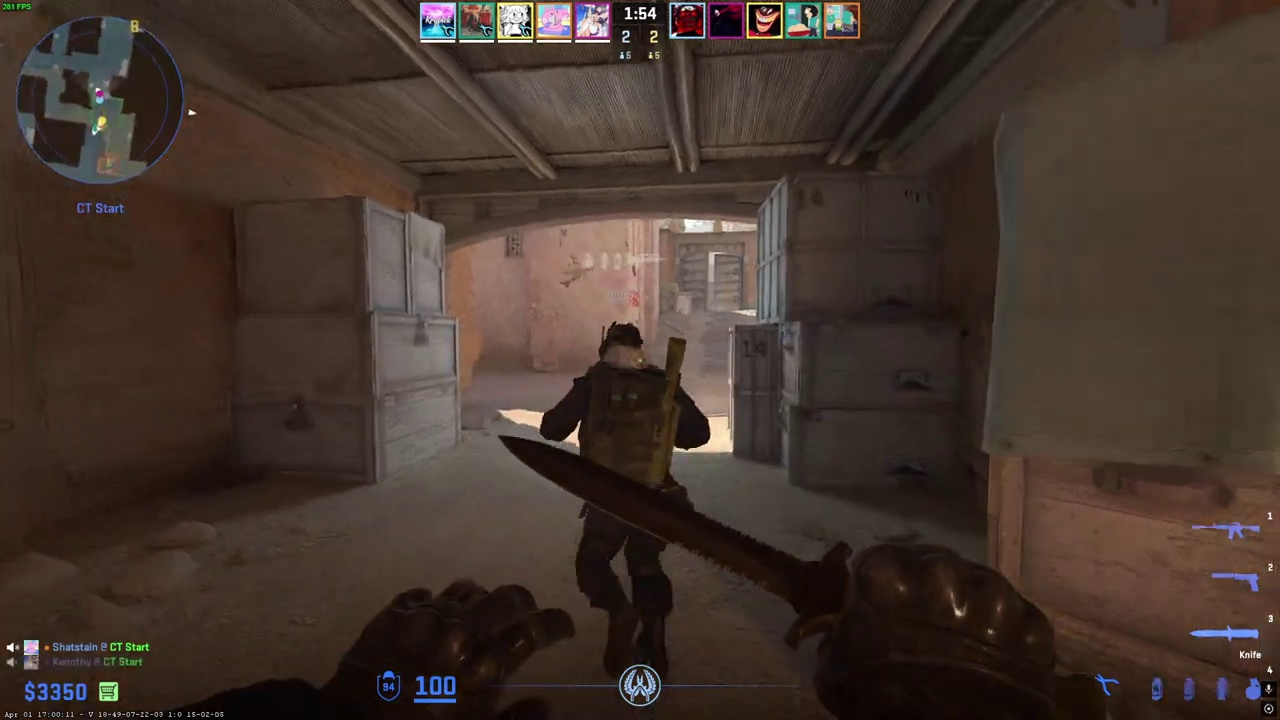CT: (554, 321, 699, 680)
